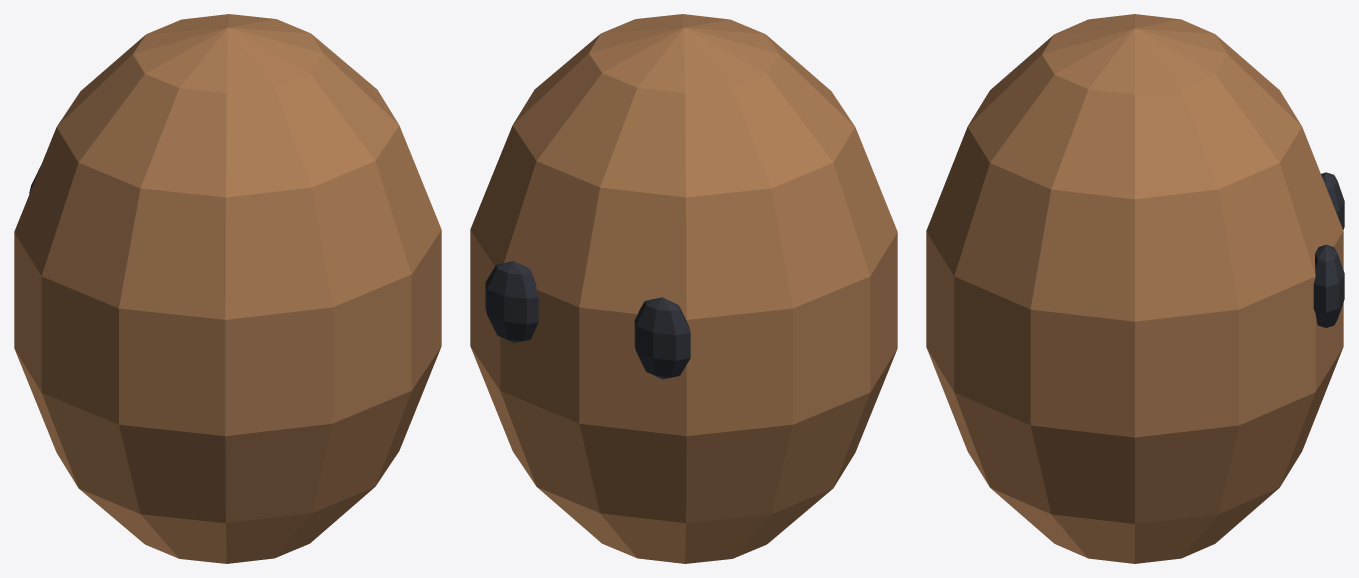
File: gorehulk_e_head.obj
The picture shows the model from 3 angles, left to right: view 1: azimuth 30°, elevation 25°; view 2: azimuth 150°, elevation 25°; view 3: azimuth 270°, elevation 25°; orthographic projection.
Parts seen in each view (by area): view 1: gorehulk_e_head; view 2: gorehulk_e_head; view 3: gorehulk_e_head.
Part boxes in pixels (left/top/right/bottom): gorehulk_e_head: left=14, top=14, right=441, bottom=563; gorehulk_e_head: left=470, top=14, right=897, bottom=563; gorehulk_e_head: left=926, top=14, right=1344, bottom=563.
Bounding box in the file's own units: 0.351 × 0.47 × 0.3422.
